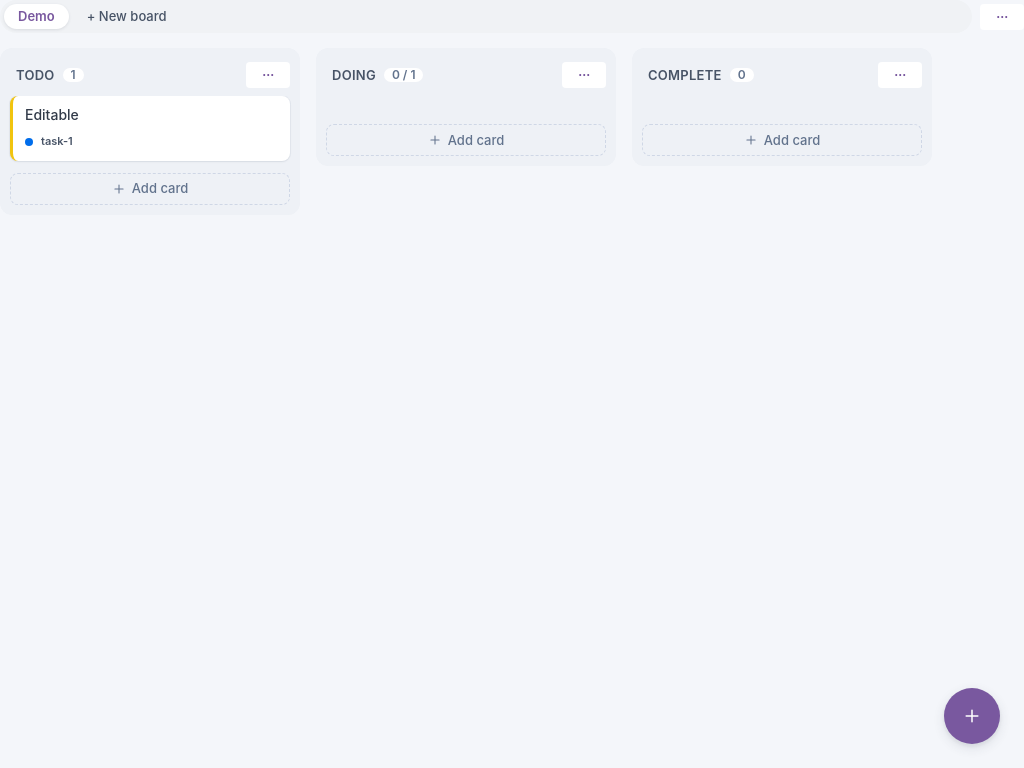
Test: KanbanBoard › edits a card in the modal: fields, column and due date
Click the list item with aria-label "Editable (medium)" at (150, 128), box [10,96,290,161]
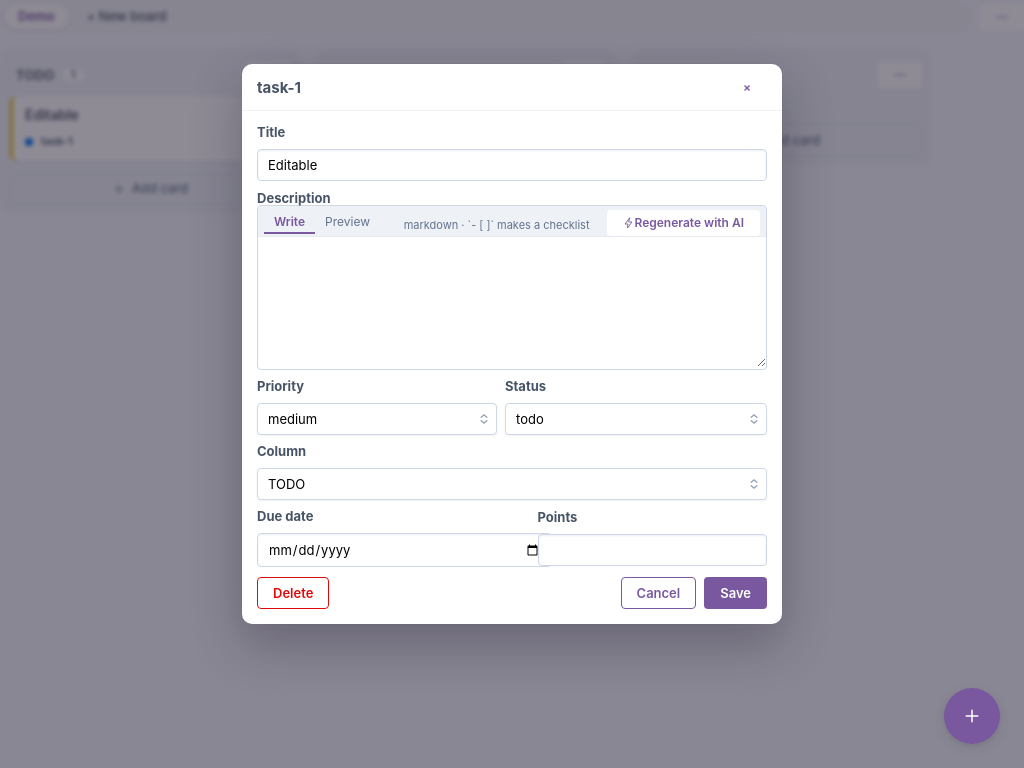
Replace the text in the field labelled "Title" with "Edited" at (512, 165), box [257,149,767,181]
Select "blocked" in the dropdown labelled "Status" at (636, 419), box [505,403,767,435]
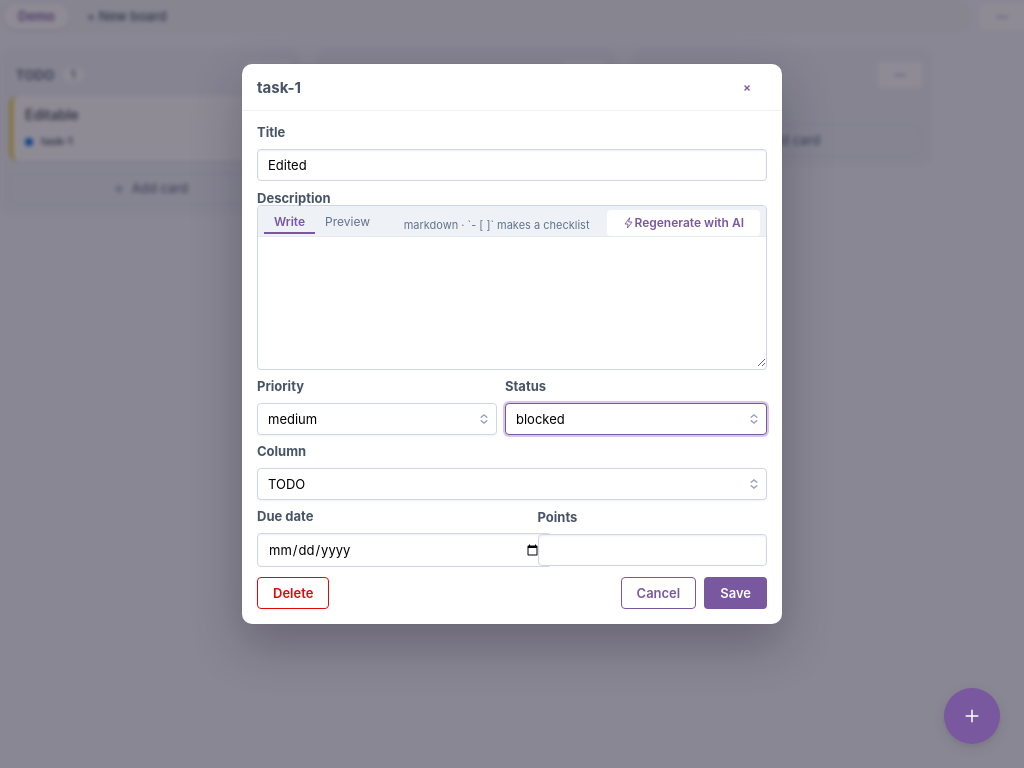
Select "Complete" in the dropdown labelled "Column" at (512, 484), box [257,468,767,500]
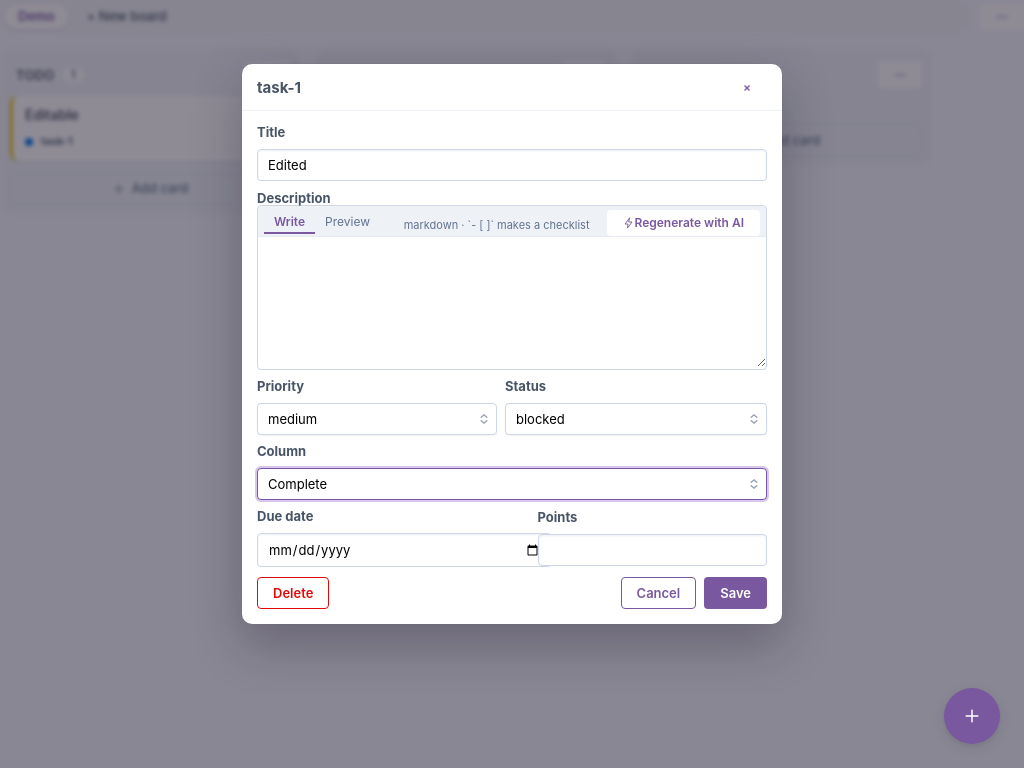
Type "2026-12-24" into the date field labelled "Due date" at (404, 550), box [257,533,552,567]
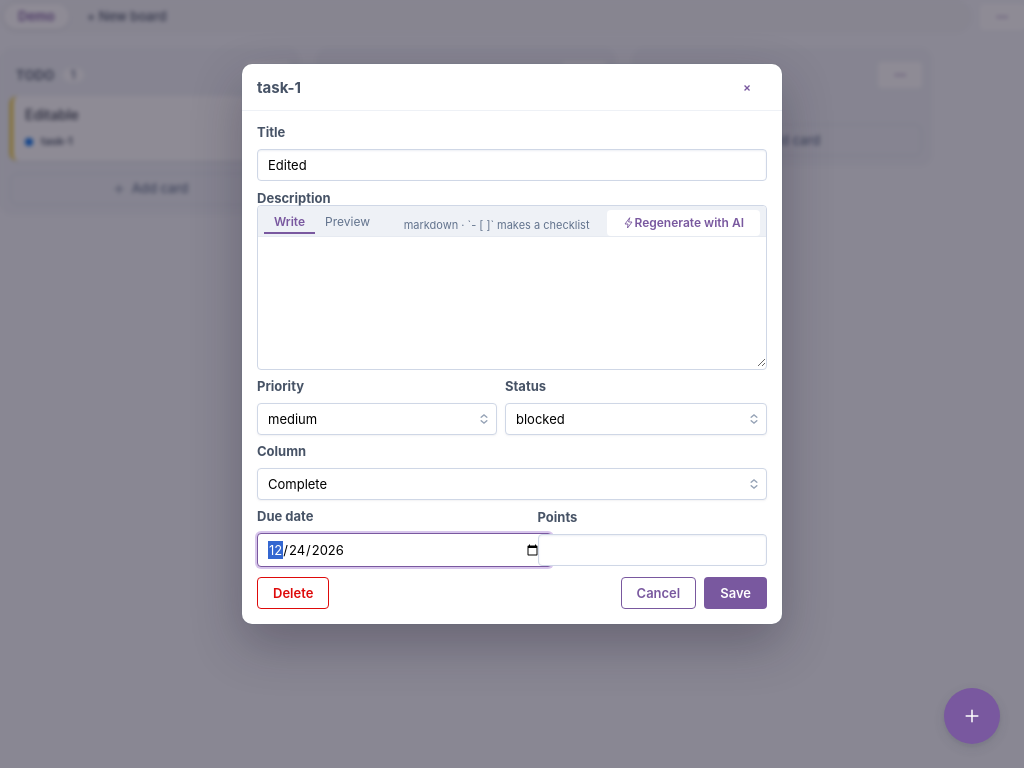
Type "3" into the number field labelled "Points" at (652, 550), box [538,534,767,566]
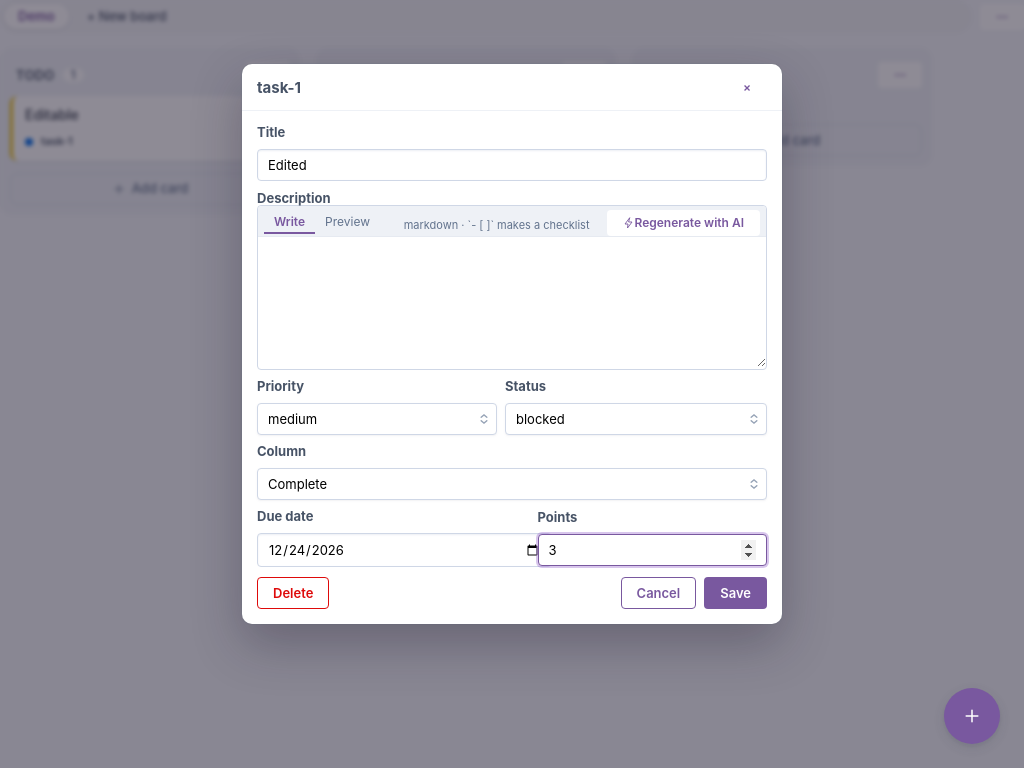
Click the button "Save" at (736, 593), box [704,577,767,609]
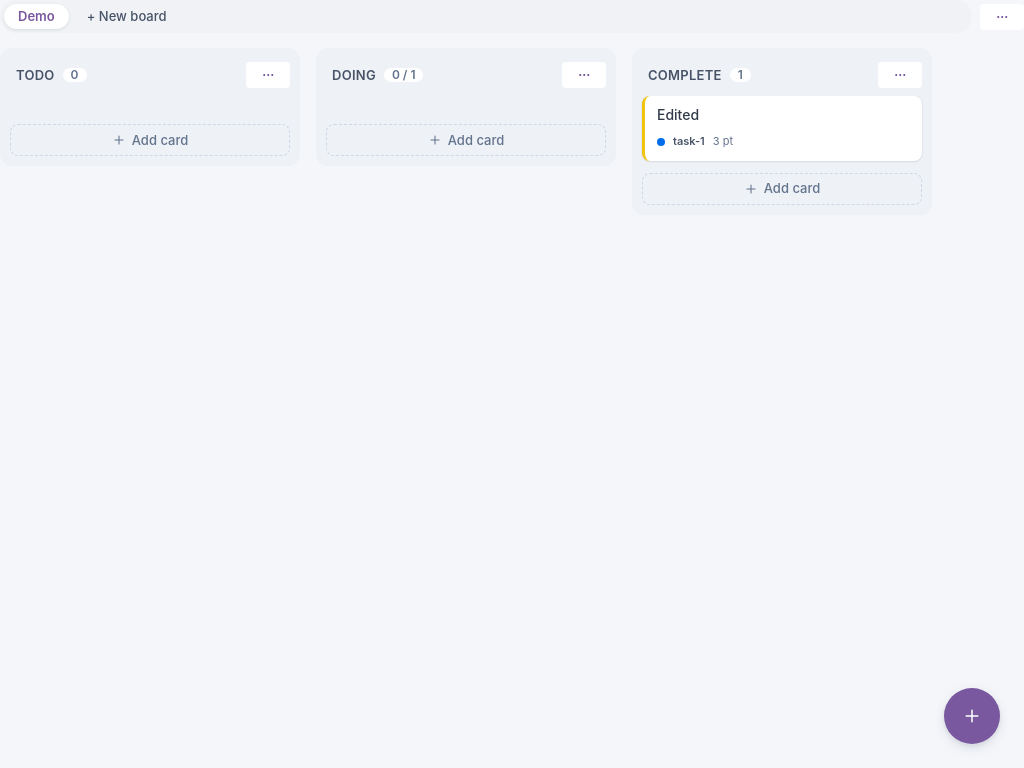
Expected: the text "Edited" is shown, [657,106,699,123]
Expected: the text "3 pt" is shown, [713,136,733,147]
